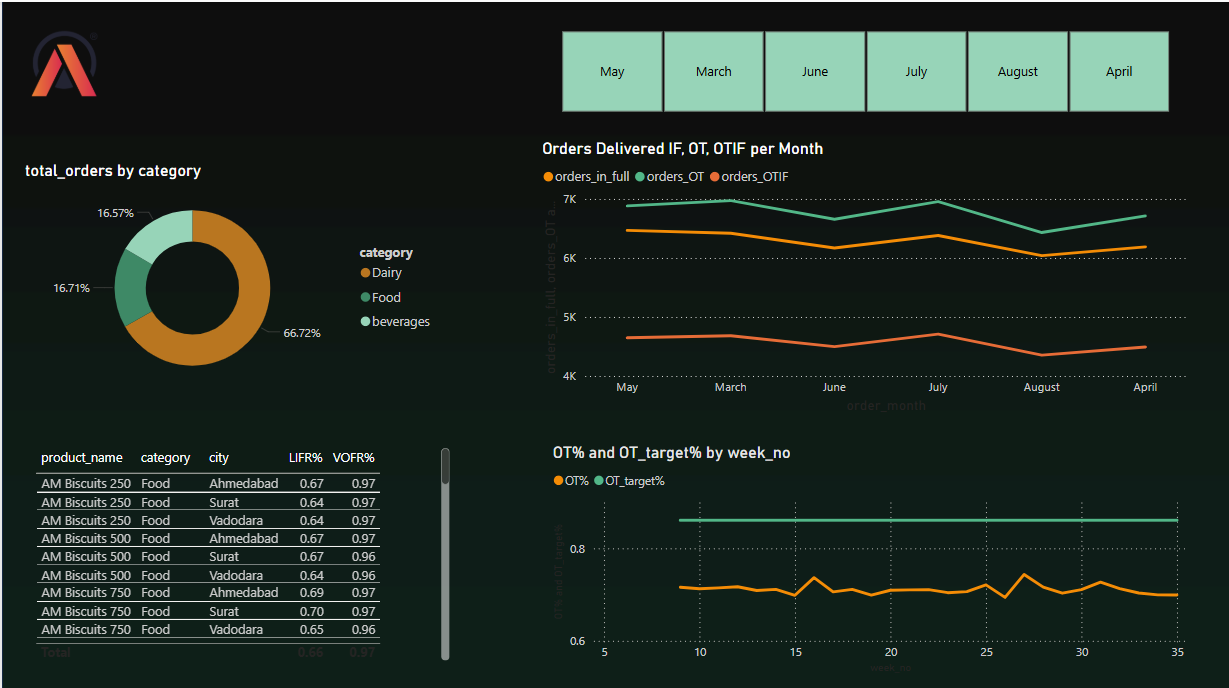

The dashboard page shown, as its layout file describes it:
{"tool":"powerbi","page":{"name":"monthly_trend","canvas":[1280,720],"ordinal":1},"visuals":[{"type":"slicer","fields":{"Values":["fact_order_lines.order_month"]},"box":[557.7,23.5,682,97.4],"z":0},{"type":"lineChart","title":"Orders Delivered IF, OT, OTIF per Month","fields":{"Y":["fact_order_lines.orders_delivered_in_full","fact_order_lines.orders_delivered_OT","fact_order_lines.orders_delivered_OTIF"],"Category":["fact_order_lines.order_month"]},"box":[557.7,142.8,682,290.6],"z":1000},{"type":"lineChart","fields":{"Y":["fact_order_lines.OT%","fact_order_lines.OT_target%"],"Category":["fact_order_lines.order_month","fact_order_lines.week_no"]},"box":[569.4,460.3,670.2,245.2],"z":2000},{"type":"tableEx","fields":{"Values":["dim_products.product_name","dim_products.category","dim_customers.city","fact_order_lines.LIFR%","fact_order_lines.VOFR%"]},"box":[30.2,460.3,441.8,231.8],"z":3000},{"type":"donutChart","fields":{"Category":["dim_products.category"],"Y":["fact_order_lines.total_orders"]},"box":[18.5,166.3,441.8,245.2],"z":4000},{"type":"image","box":[18.5,23.5,94.1,80.6],"z":5000}]}

Visuals, with their boxes in screenshot pixels (x1, y1, x2, y2), scaled from the page's 1280x720 canvas onto the 1229x688 screenshot:
slicer - fact_order_lines.order_month: 535/22/1190/116
"Orders Delivered IF, OT, OTIF per Month" lineChart: 535/136/1190/414
lineChart - fact_order_lines.OT% x fact_order_lines.OT_target%: 547/440/1190/674
tableEx - dim_products.product_name x dim_products.category: 29/440/453/661
donutChart - dim_products.category x fact_order_lines.total_orders: 18/159/442/393
image: 18/22/108/99
